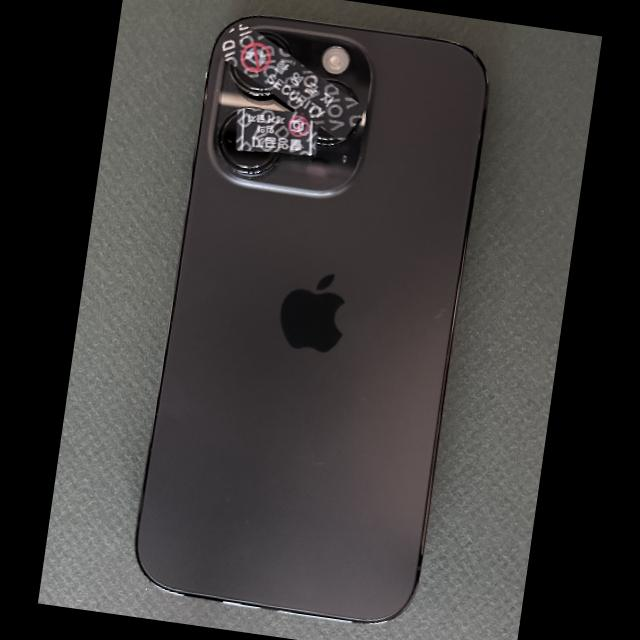lens: (218, 110, 281, 176), (229, 64, 271, 96), (325, 79, 358, 102)
phone: (137, 17, 487, 621)
sticker: (216, 22, 364, 141), (235, 109, 319, 156)
